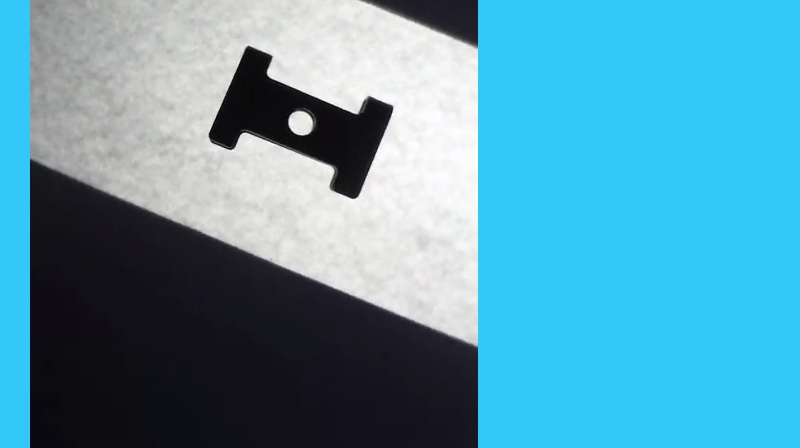O002: (206, 41, 398, 201)
